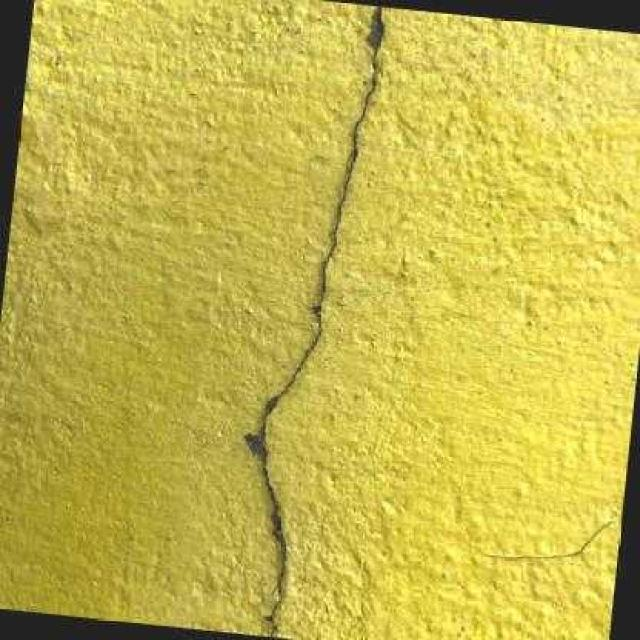D00: (260, 4, 382, 637)
